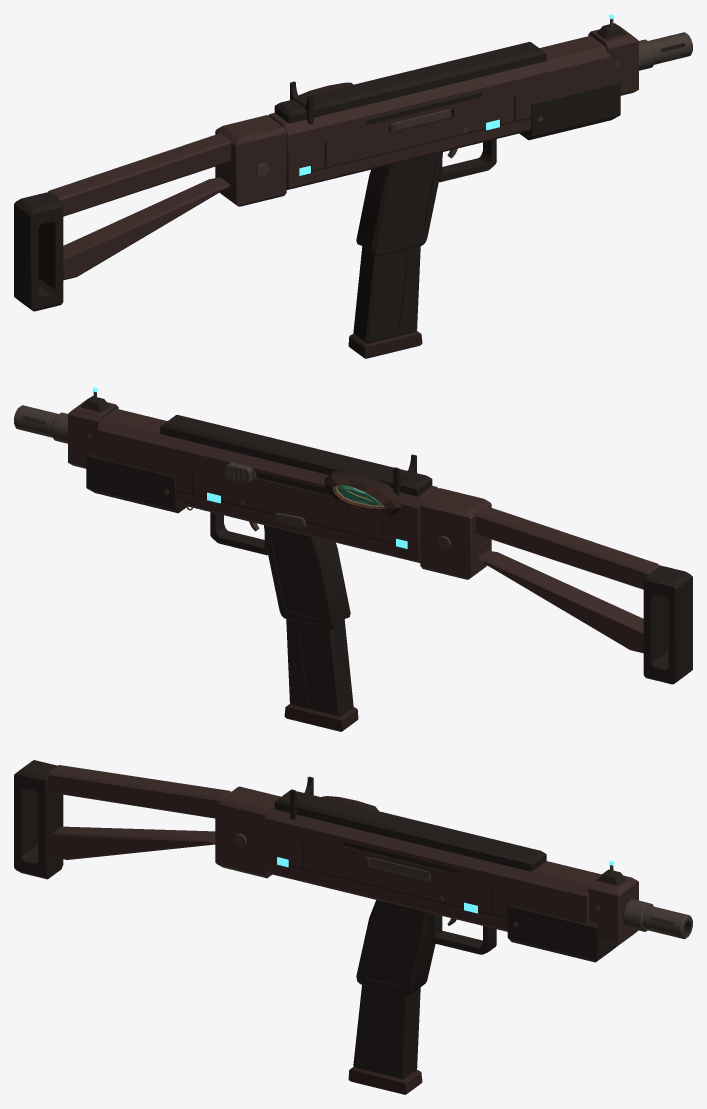
The model's file is Stinger_Rootglass_v01.fbx.
The picture shows the model from 3 angles, top to bottom: view 1: azimuth 30°, elevation 25°; view 2: azimuth 150°, elevation 25°; view 3: azimuth 330°, elevation 25°; orthographic projection.
Visible parts, largest first — view 1: Stinger_Receiver, Stinger_Stock, Stinger_Grip, Stinger_Mag, Stinger_Handguard, Stinger_Barrel, Stinger_Sights; view 2: Stinger_Receiver, Stinger_Stock, Stinger_Grip, Stinger_Mag, Stinger_Handguard, Rootglass_Left_CarvedShell, Stinger_Barrel, Stinger_Sights; view 3: Stinger_Receiver, Stinger_Stock, Stinger_Grip, Stinger_Mag, Stinger_Handguard, Stinger_Barrel, Stinger_Sights, Stinger_Bolt.
Part boxes in pixels (x1=…): Stinger_Receiver: x1=268, y1=25, x2=638, y2=189; Stinger_Stock: x1=14, y1=115, x2=286, y2=311; Stinger_Grip: x1=356, y1=139, x2=496, y2=256; Stinger_Mag: x1=348, y1=203, x2=422, y2=358; Stinger_Handguard: x1=519, y1=79, x2=620, y2=140; Stinger_Barrel: x1=639, y1=32, x2=692, y2=70; Stinger_Sights: x1=290, y1=14, x2=626, y2=124; Stinger_Receiver: x1=68, y1=398, x2=438, y2=562; Stinger_Stock: x1=420, y1=488, x2=692, y2=684; Stinger_Grip: x1=210, y1=512, x2=350, y2=629; Stinger_Mag: x1=284, y1=576, x2=358, y2=731; Stinger_Handguard: x1=86, y1=452, x2=186, y2=513; Rootglass_Left_CarvedShell: x1=324, y1=470, x2=401, y2=515; Stinger_Barrel: x1=14, y1=405, x2=67, y2=443; Stinger_Sights: x1=80, y1=387, x2=416, y2=495; Stinger_Receiver: x1=265, y1=790, x2=638, y2=945; Stinger_Stock: x1=14, y1=760, x2=280, y2=879; Stinger_Grip: x1=356, y1=900, x2=496, y2=995; Stinger_Mag: x1=348, y1=985, x2=422, y2=1094; Stinger_Handguard: x1=507, y1=905, x2=617, y2=962; Stinger_Barrel: x1=622, y1=899, x2=692, y2=938; Stinger_Sights: x1=290, y1=776, x2=626, y2=885; Stinger_Bolt: x1=372, y1=857, x2=430, y2=879.
Bounding box in the file's own units: 267 × 107 × 20.2.
